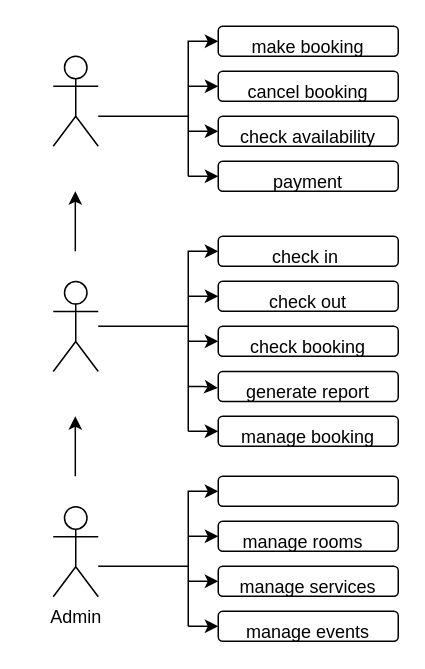
This 425x669 diagram has some shape labels left out. Here are the shapes that lost their labels. From the top down, the centre of each, then its label:
pixel 75 100: Guest
pixel 75 326: Receptionist
pixel 307 490: update database
